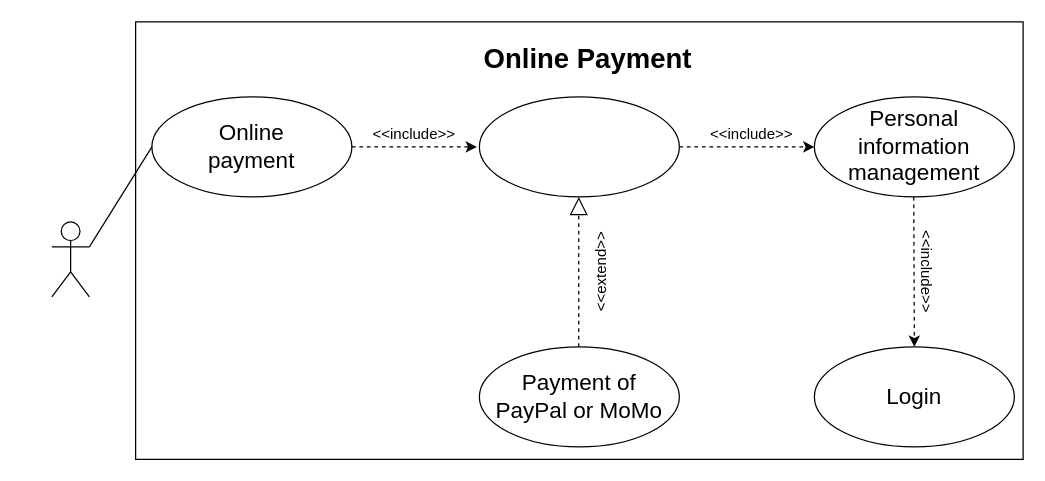
The diagram is 1045 pixels wide and 481 high, and some of its shapes have lost their labels. The box of each missing label's shape, as (x1, y1, x2, y2) in pixels:
Customer: (51, 221, 89, 297)
Payment: (478, 96, 679, 197)
